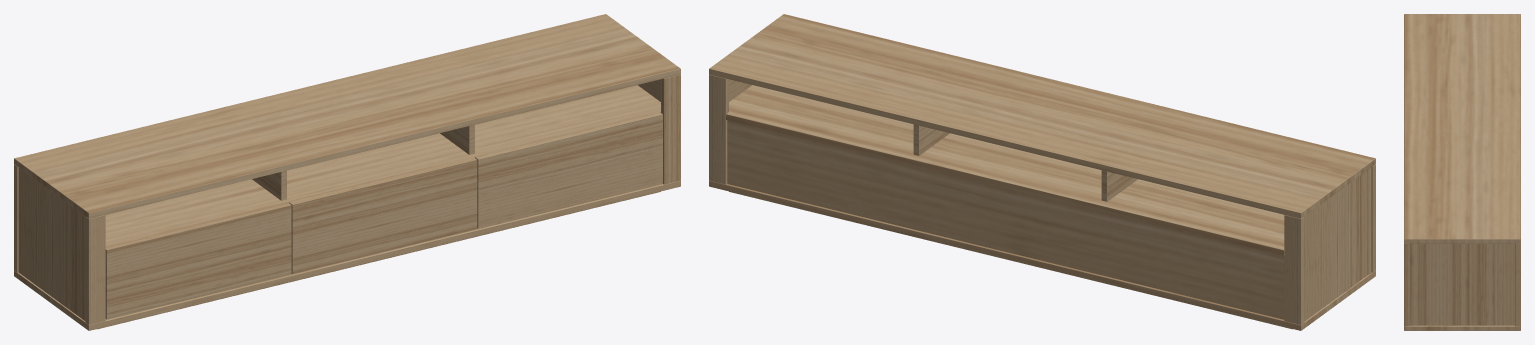
Rendered from tv_stand_merlin.glb.
3 views of the same model, side by side, from view 1: azimuth 30°, elevation 25°; view 2: azimuth 150°, elevation 25°; view 3: azimuth 270°, elevation 25° (orthographic). The views are drawn at different scales.
Parts seen in each view (by area): view 1: TV_Merlin3_1, TV_Merlin3_11, TV_Merlin3_16, TV_Merlin3_17, TV_Merlin3_15, TV_Merlin3_14, TV_Merlin3_3, TV_Merlin3_10, TV_Merlin3_8, TV_Merlin3_13, TV_Merlin3_12, TV_Merlin3_2 (+1 smaller); view 2: TV_Merlin3_1, TV_Merlin3_19, TV_Merlin3_11, TV_Merlin3_14, TV_Merlin3_3, TV_Merlin3_7, TV_Merlin3_9, TV_Merlin3_12, TV_Merlin3_13, TV_Merlin3_4, TV_Merlin3_10; view 3: TV_Merlin3_1, TV_Merlin3_18, TV_Merlin3_3, TV_Merlin3_8, TV_Merlin3_9.
Boxes of the visible parts, bbox=[...] form: TV_Merlin3_1: bbox=[14, 14, 680, 218]; TV_Merlin3_11: bbox=[105, 85, 660, 246]; TV_Merlin3_16: bbox=[289, 157, 477, 274]; TV_Merlin3_17: bbox=[105, 202, 291, 319]; TV_Merlin3_15: bbox=[475, 112, 662, 228]; TV_Merlin3_14: bbox=[18, 168, 85, 321]; TV_Merlin3_3: bbox=[14, 181, 680, 330]; TV_Merlin3_10: bbox=[85, 215, 105, 324]; TV_Merlin3_8: bbox=[661, 74, 680, 184]; TV_Merlin3_13: bbox=[440, 124, 474, 154]; TV_Merlin3_12: bbox=[252, 170, 286, 200]; TV_Merlin3_2: bbox=[97, 191, 660, 329]; TV_Merlin3_1: bbox=[709, 14, 1375, 218]; TV_Merlin3_19: bbox=[727, 120, 1284, 319]; TV_Merlin3_11: bbox=[726, 85, 1284, 255]; TV_Merlin3_14: bbox=[1304, 168, 1371, 321]; TV_Merlin3_3: bbox=[709, 181, 1375, 330]; TV_Merlin3_7: bbox=[1284, 215, 1304, 324]; TV_Merlin3_9: bbox=[709, 74, 728, 184]; TV_Merlin3_12: bbox=[1101, 170, 1137, 201]; TV_Merlin3_13: bbox=[913, 124, 949, 155]; TV_Merlin3_4: bbox=[729, 191, 1292, 329]; TV_Merlin3_10: bbox=[1371, 164, 1375, 272]; TV_Merlin3_1: bbox=[1404, 14, 1520, 243]; TV_Merlin3_18: bbox=[1409, 243, 1515, 325]; TV_Merlin3_3: bbox=[1404, 325, 1520, 330]; TV_Merlin3_8: bbox=[1404, 243, 1409, 326]; TV_Merlin3_9: bbox=[1515, 243, 1520, 326].
Size of the model in its own units: 2.1 by 0.42 by 0.46.
Materials: 1 (1 with a texture image).
